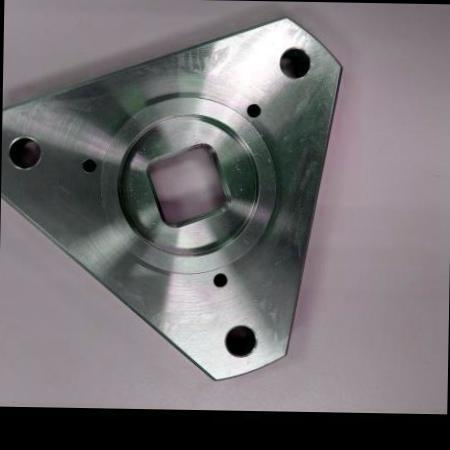hole: (4, 132, 44, 173), (276, 42, 314, 84), (222, 322, 260, 360), (244, 100, 265, 120), (80, 154, 99, 176), (211, 271, 232, 290)
